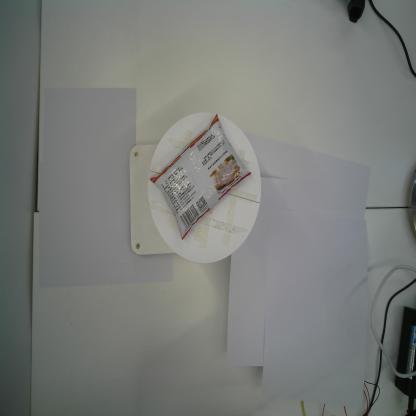Seasoner: (148, 111, 253, 243)
